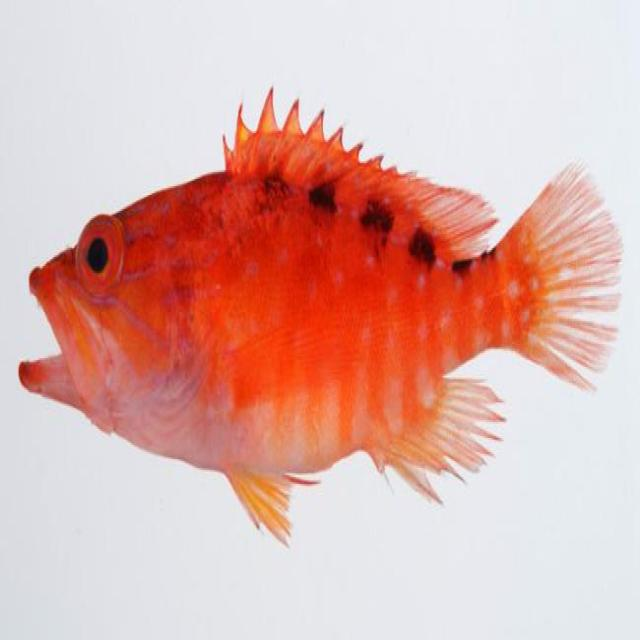ikan: (18, 83, 623, 548)
